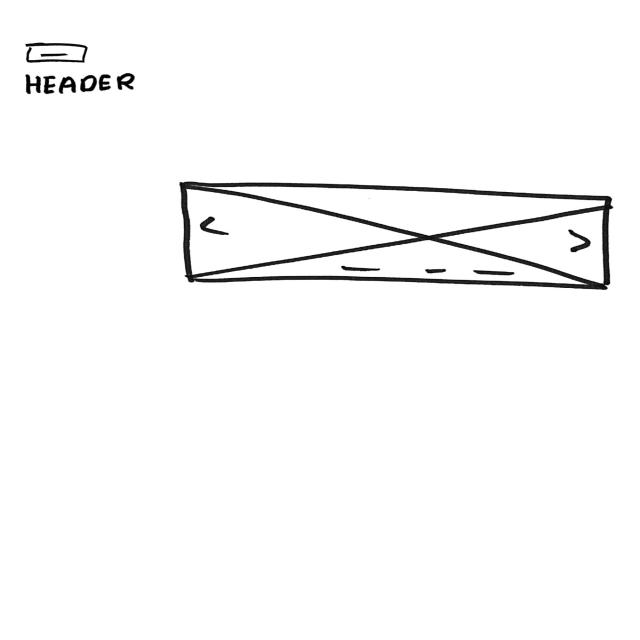icon-button: (24, 42, 88, 65)
image: (178, 180, 616, 291)
label: (23, 72, 140, 96)
